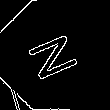N_NE: (24, 27, 86, 83)
